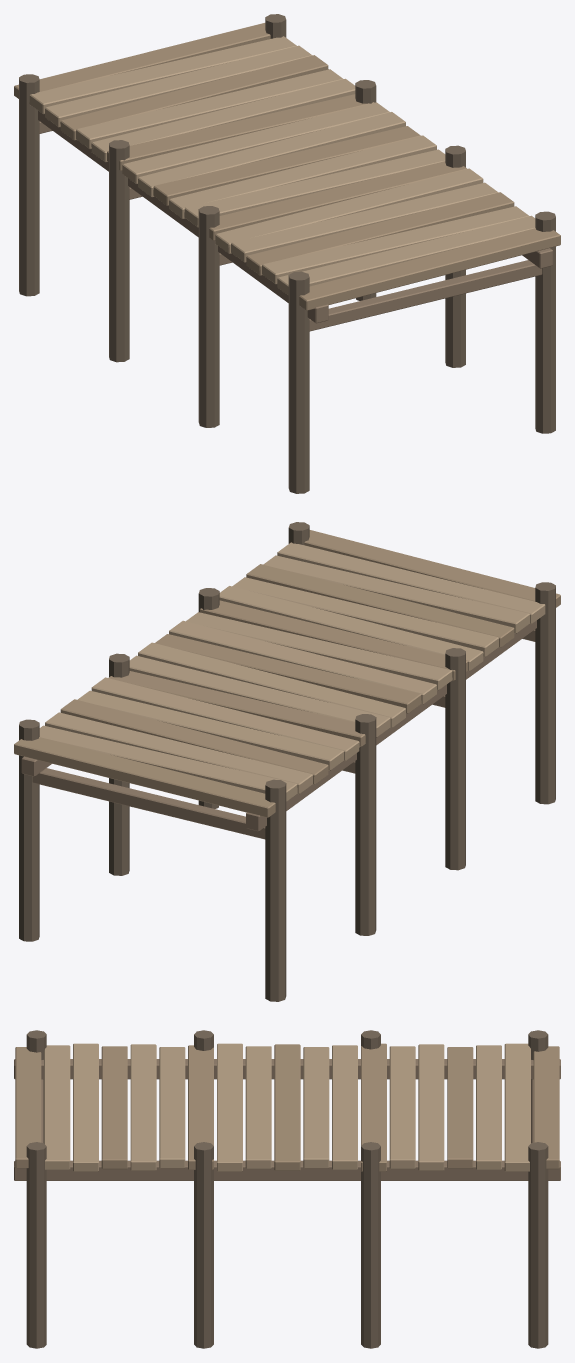
File: dock.glb
3 views of the same model, one above another, from view 1: azimuth 30°, elevation 25°; view 2: azimuth 150°, elevation 25°; view 3: azimuth 270°, elevation 25° (orthographic). The views are drawn at different scales.
Visible parts, largest first — view 1: dock_plank_00, dock_post_0_-1, dock_post_1_-1, dock_post_3_-1, dock_post_2_-1, dock_plank_10, dock_plank_15, dock_plank_05, dock_plank_08, dock_plank_03, dock_plank_16, dock_plank_11 (+16 smaller); view 2: dock_plank_18, dock_post_3_-1, dock_post_2_-1, dock_post_1_-1, dock_post_0_-1, dock_plank_15, dock_plank_10, dock_plank_03, dock_plank_13, dock_plank_08, dock_plank_16, dock_plank_01 (+15 smaller); view 3: dock_stringer_1, dock_post_3_1, dock_post_0_1, dock_post_2_1, dock_post_1_1, dock_plank_17, dock_plank_04, dock_plank_09, dock_plank_14, dock_plank_02, dock_plank_07, dock_plank_08 (+15 smaller).
Part boxes in pixels (x1,y1,x2,y2): dock_plank_00: (299, 228, 560, 310); dock_post_0_-1: (288, 271, 309, 493); dock_post_1_-1: (198, 206, 219, 427); dock_post_3_-1: (19, 74, 39, 296); dock_post_2_-1: (109, 140, 129, 362); dock_plank_10: (138, 112, 405, 197); dock_plank_15: (60, 55, 328, 140); dock_plank_05: (215, 168, 483, 253); dock_plank_08: (169, 135, 436, 218); dock_plank_03: (246, 192, 514, 275); dock_plank_16: (45, 45, 312, 127); dock_plank_11: (122, 102, 389, 183); dock_plank_18: (14, 737, 275, 817); dock_post_3_-1: (265, 779, 286, 1001); dock_post_2_-1: (355, 714, 376, 935); dock_post_1_-1: (445, 648, 465, 870); dock_post_0_-1: (535, 582, 555, 804); dock_plank_15: (60, 699, 328, 784); dock_plank_10: (138, 642, 405, 727); dock_plank_03: (246, 564, 514, 647); dock_plank_13: (91, 677, 359, 760); dock_plank_08: (169, 620, 436, 704); dock_plank_16: (45, 712, 312, 794); dock_plank_01: (277, 542, 545, 623); dock_stringer_1: (14, 1160, 560, 1180); dock_post_3_1: (528, 1142, 548, 1348); dock_post_0_1: (26, 1142, 46, 1348); dock_post_2_1: (361, 1142, 380, 1348); dock_post_1_1: (194, 1142, 213, 1348); dock_plank_17: (504, 1043, 530, 1171); dock_plank_04: (130, 1044, 156, 1170); dock_plank_09: (274, 1044, 300, 1170); dock_plank_14: (418, 1044, 444, 1170); dock_plank_02: (73, 1043, 98, 1171); dock_plank_07: (217, 1043, 242, 1171); dock_plank_08: (245, 1046, 271, 1169).
Bounding box in the file's own units: 3.12 × 2.4 × 6.
